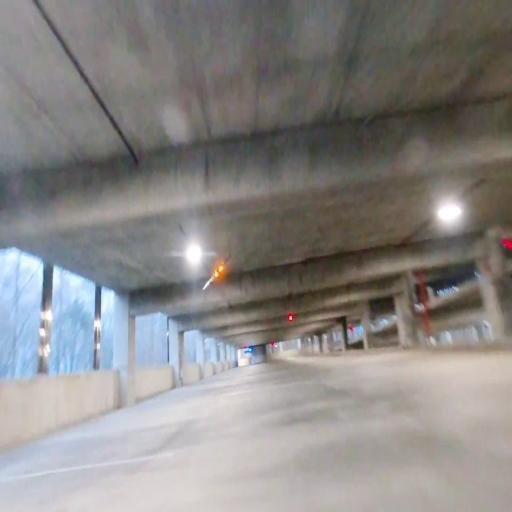uav: (198, 254, 240, 295)
